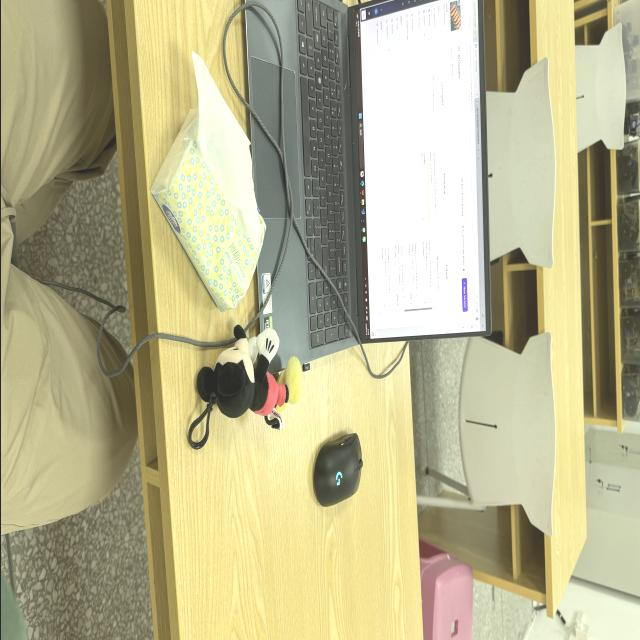mickey: (196, 326, 300, 428)
tissue: (151, 54, 264, 310)
